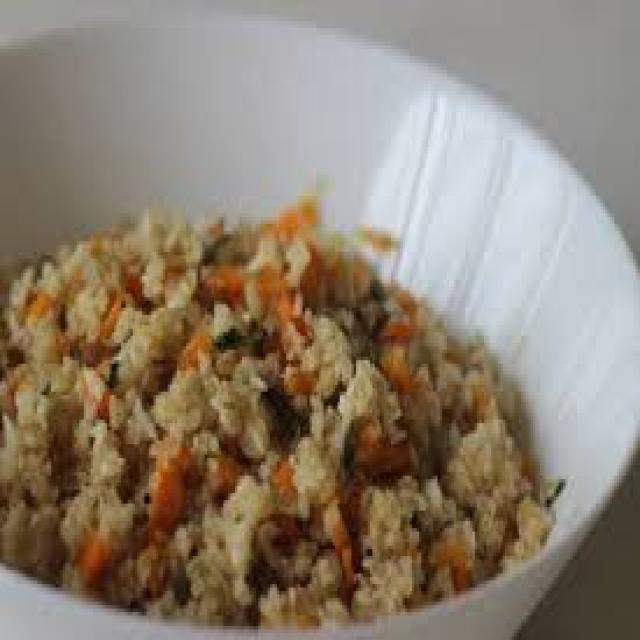UPMA: (0, 192, 559, 623)
